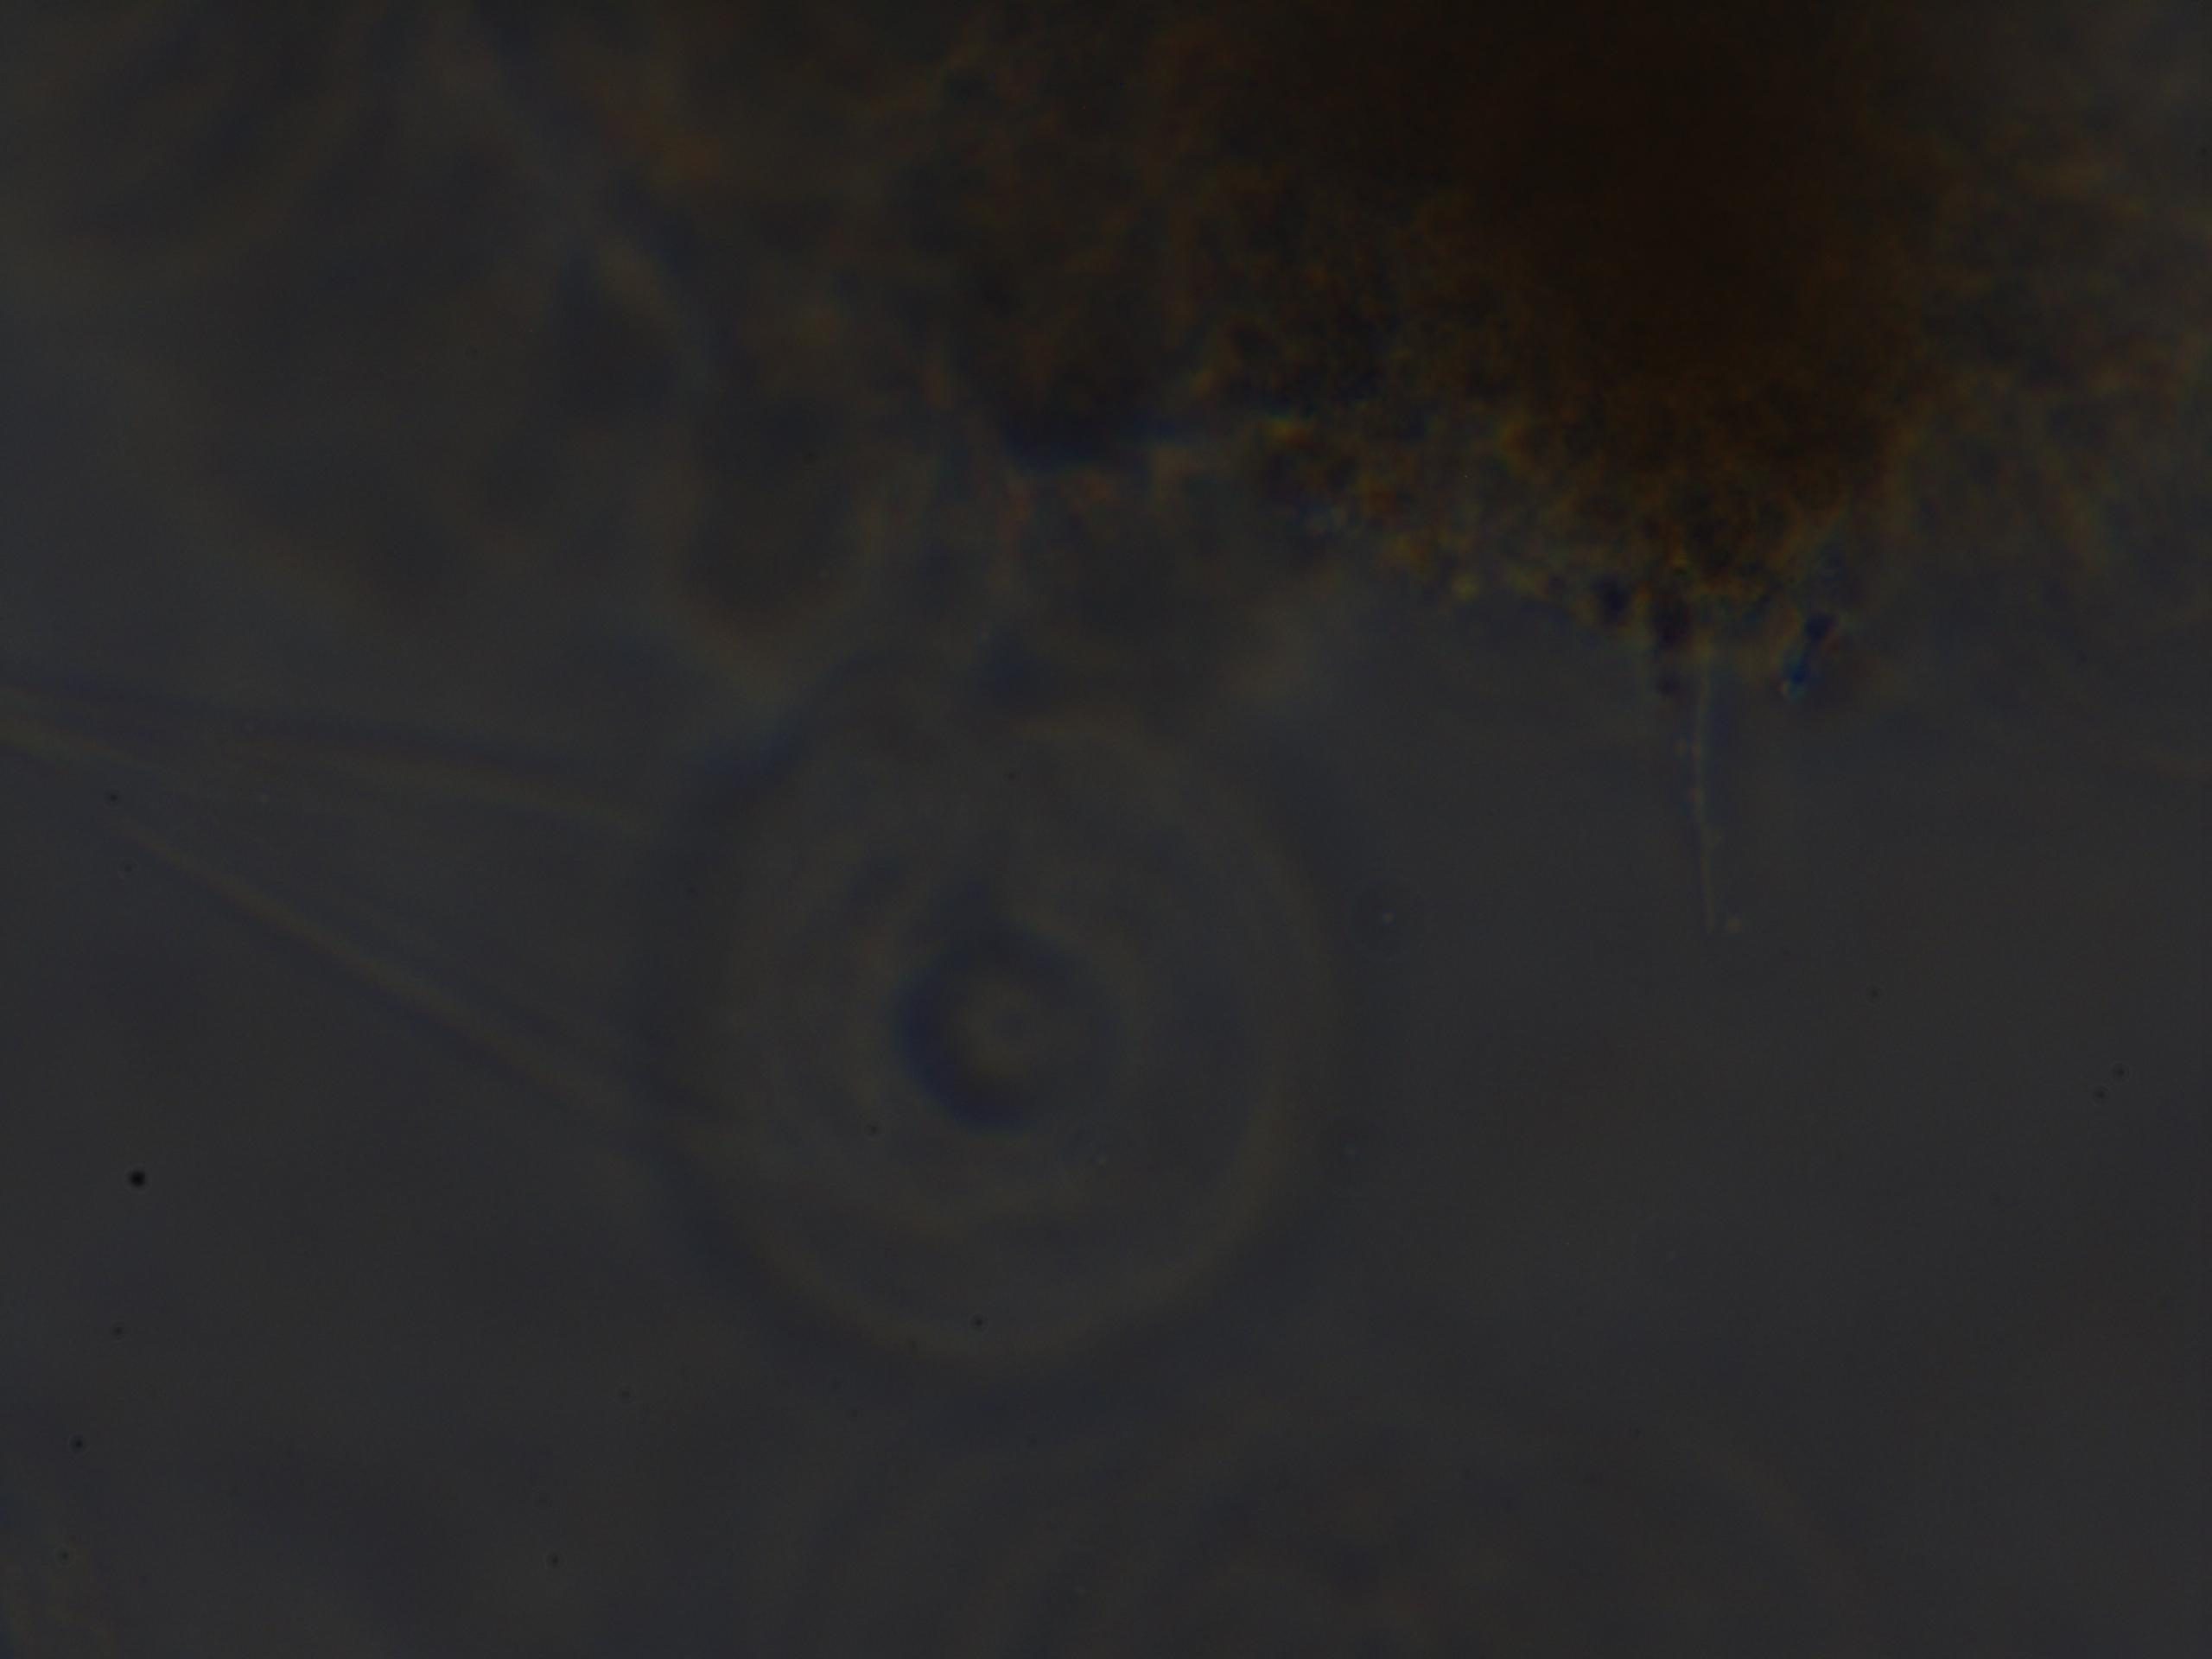filament: (0, 800, 671, 1201), (19, 669, 726, 889)
